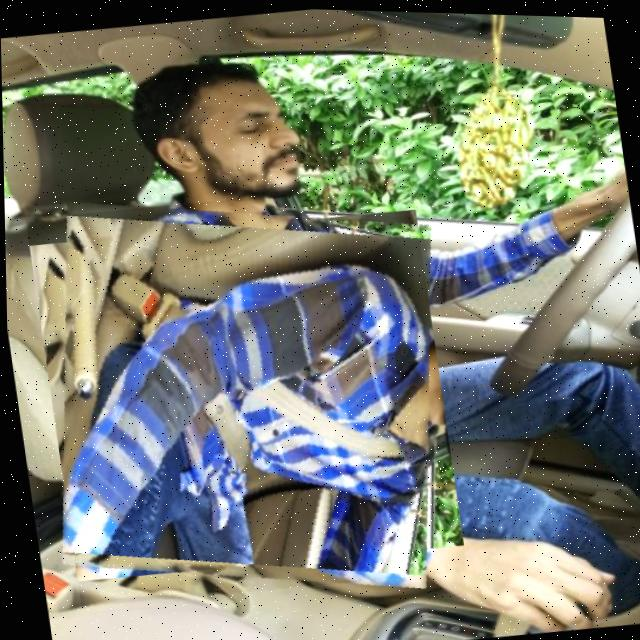seatbelt: (22, 169, 465, 615)
